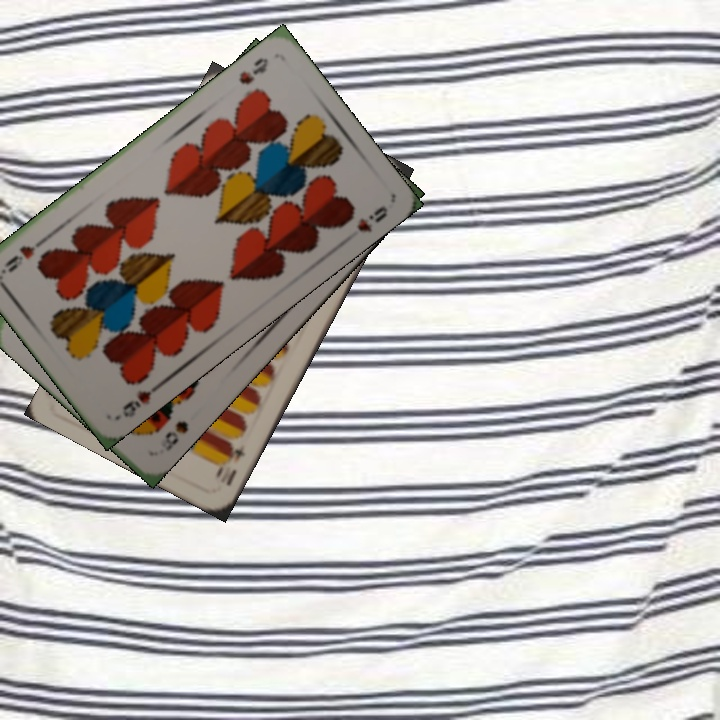E10: (211, 439, 248, 480)
H9: (112, 379, 163, 422), (235, 53, 271, 87)
S8: (156, 416, 191, 454)
